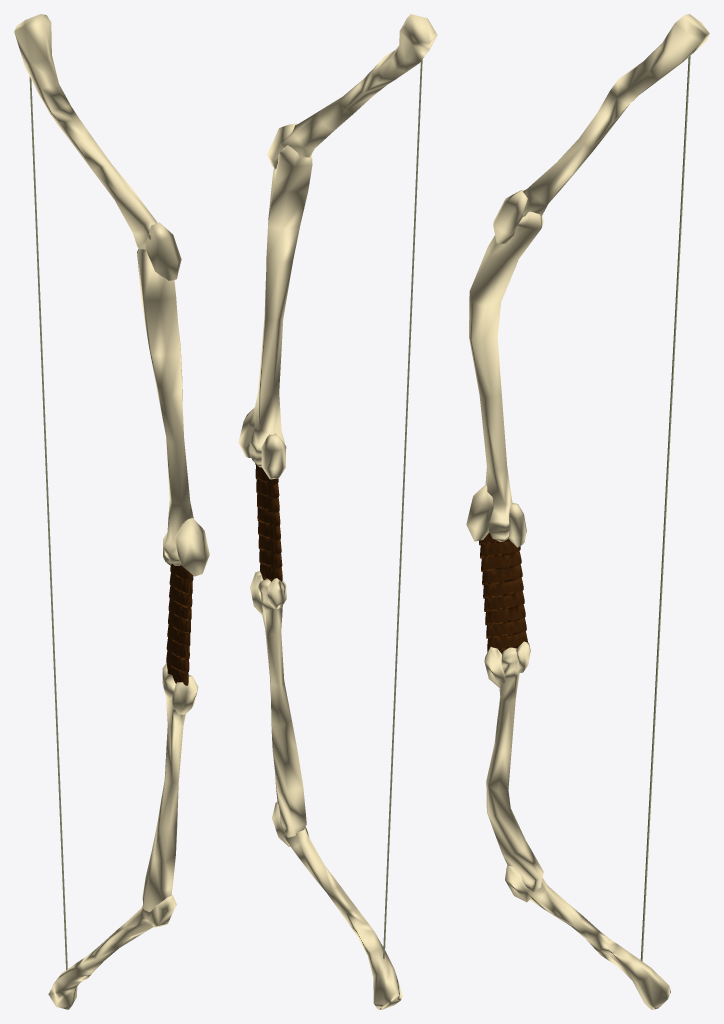
File: Enemy_Bow.fbx
The picture shows the model from 3 angles, left to right: view 1: azimuth 30°, elevation 25°; view 2: azimuth 210°, elevation 25°; view 3: azimuth 270°, elevation 25°; orthographic projection.
Visible parts, largest first — view 1: Enemy_Bow; view 2: Enemy_Bow; view 3: Enemy_Bow.
Part boxes in pixels (left/top/right/bottom): Enemy_Bow: left=14, top=14, right=209, bottom=1009; Enemy_Bow: left=238, top=14, right=437, bottom=1009; Enemy_Bow: left=466, top=14, right=709, bottom=1009.
Bounding box in the file's own units: 86.15 × 954 × 213.
